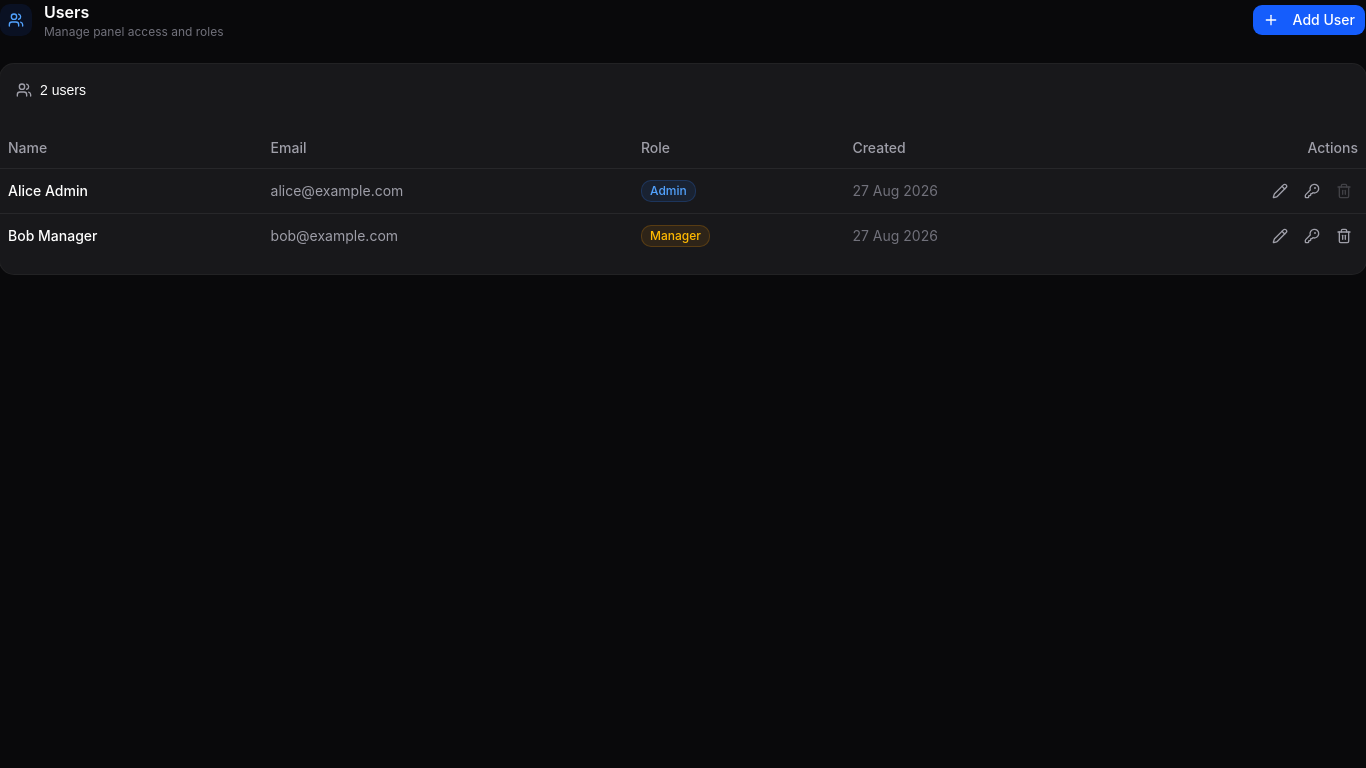
Users page state boundaries › opens admin mutation controls while preserving the self-delete invariant
Check: the text "Alice Admin" is shown, box [0,168,263,213]
Check: the number of buttons titled "Edit user" is 2, box [1266,176,1294,204]; [1266,222,1294,250]
Click the button "Add User". click: (1309, 20)
box: [1252,4,1365,36]
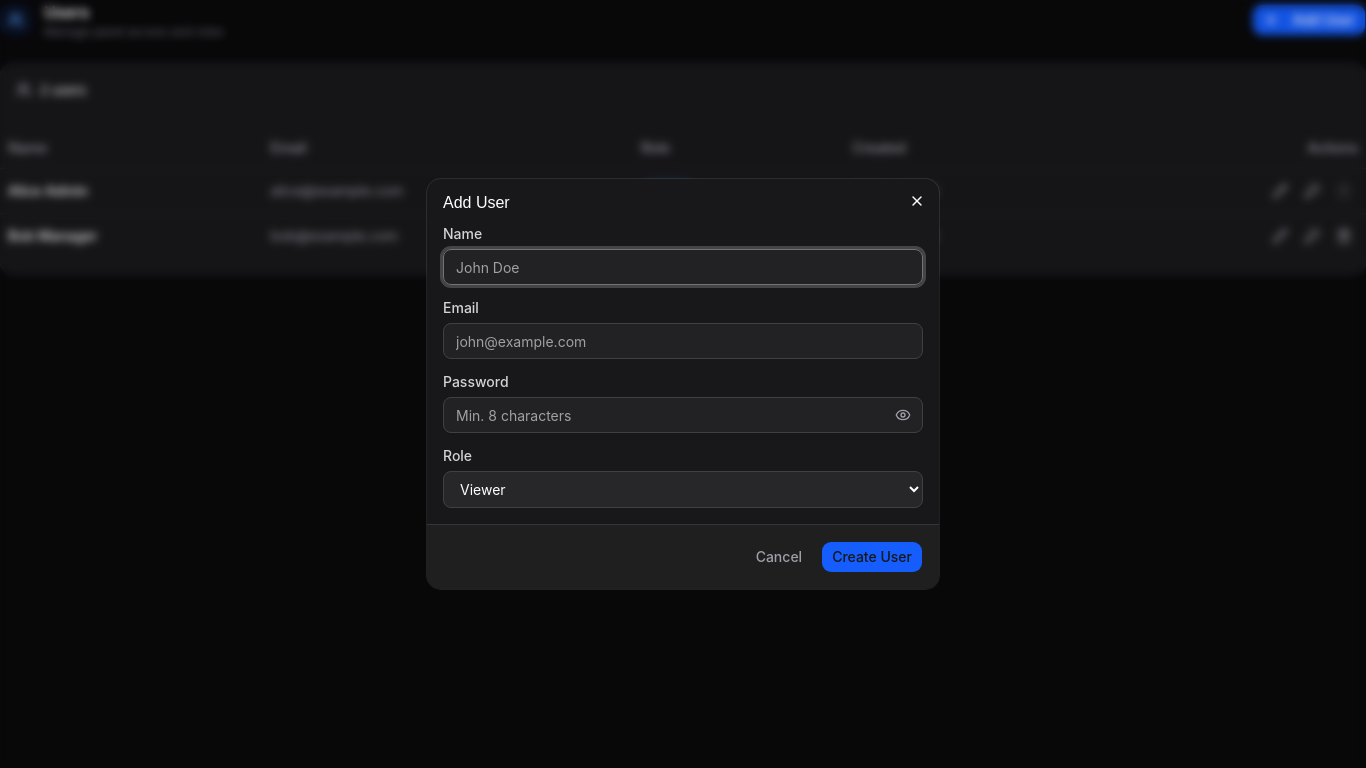
Check: the heading "Add User" is shown, box [443,194,510,211]
